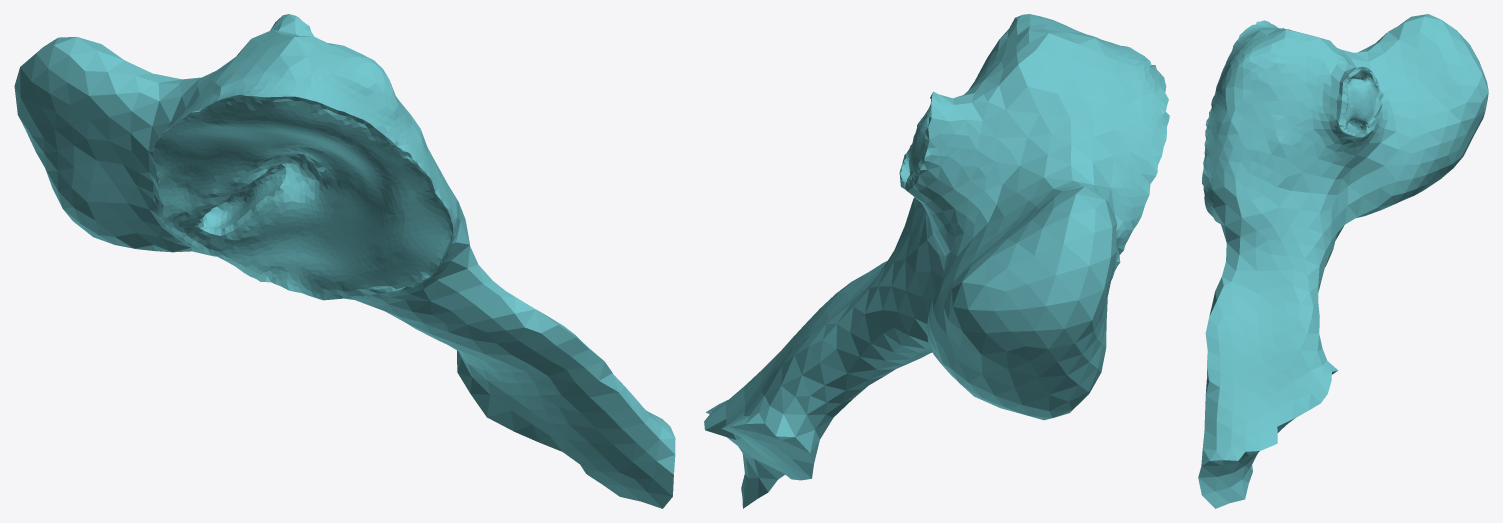
The picture shows the model from 3 angles, left to right: view 1: azimuth 30°, elevation 25°; view 2: azimuth 150°, elevation 25°; view 3: azimuth 270°, elevation 25°; orthographic projection. The views are drawn at different scales.
Parts seen in each view (by area): view 1: Shape_IndexedFaceSet.003; view 2: Shape_IndexedFaceSet.003; view 3: Shape_IndexedFaceSet.003.
Boxes of the visible parts, <box> form: Shape_IndexedFaceSet.003: <box>14,14,675,508</box>; Shape_IndexedFaceSet.003: <box>704,14,1169,508</box>; Shape_IndexedFaceSet.003: <box>1198,14,1488,508</box>.
Bounding box in the file's own units: 1942 × 1923 × 1377.
